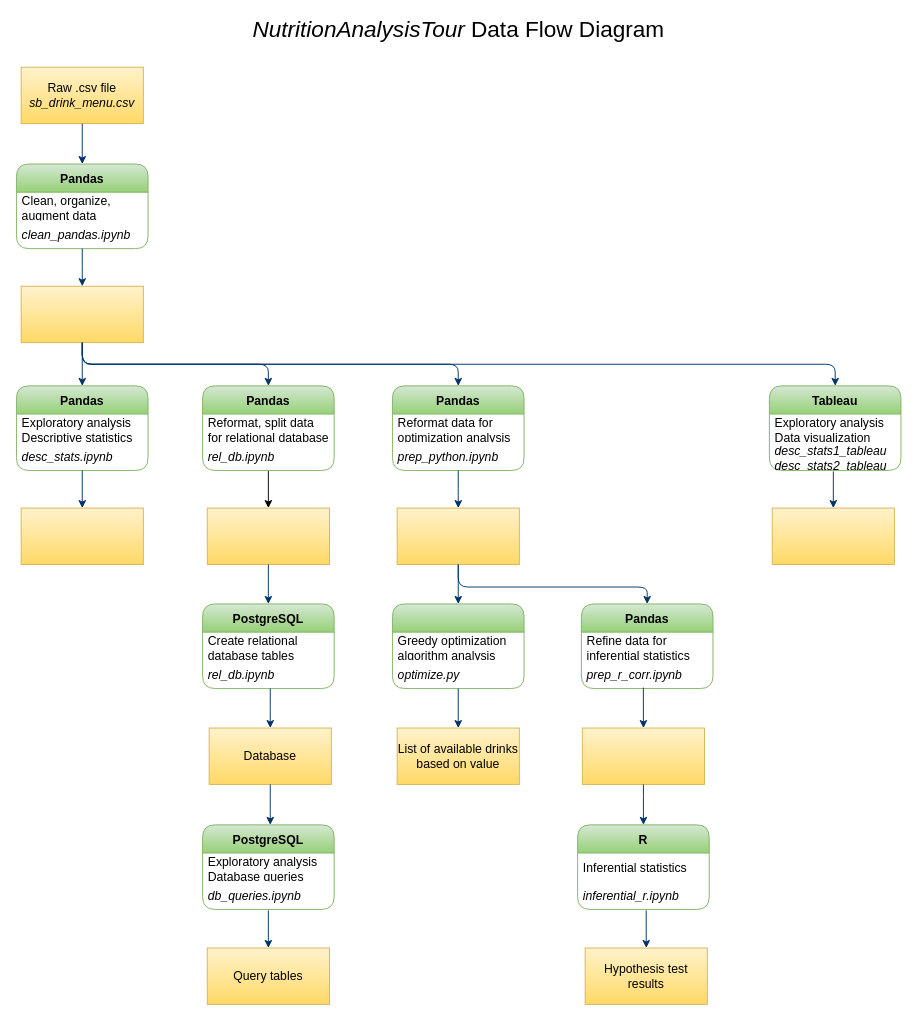
Image size: 917x1021. Some labels were removed from this diagram. Here are the shapes that lost their labels. From the top down, the box of each, then its label:
(20, 285, 143, 343): Cleaned .csv file sb_clean.csv
(20, 507, 143, 564): Summary tables Characteristic graphs
(206, 507, 329, 564): Reformatted .csv files cat_table.csv name_table.csv coffee_table.csv
(396, 507, 519, 564): Reformatted .csv file sb_prep.csv
(771, 507, 894, 564): Interactive data visualizations
(392, 603, 524, 689): Python
(581, 727, 705, 784): Refined .csv file sb_prep2.csv
